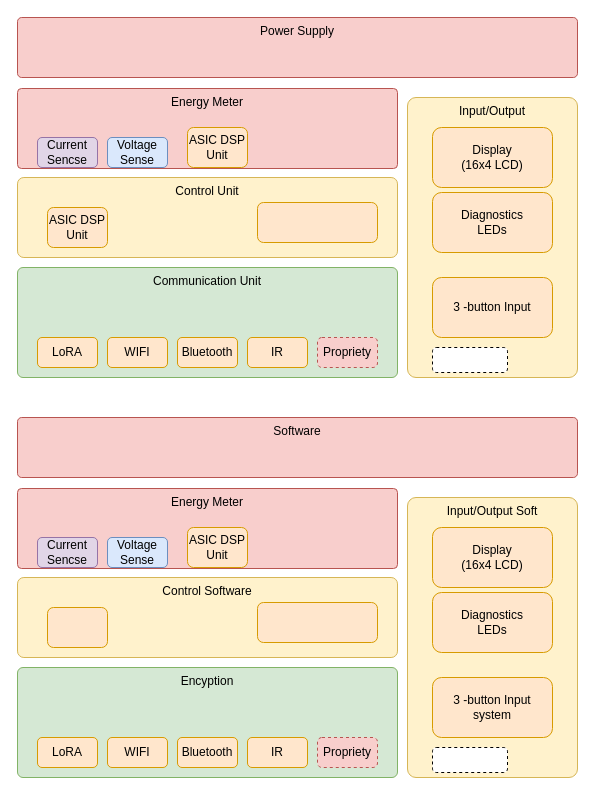
Image size: 595x795. Some labels were removed from this diagram. Each missing label, with the box of its shape:
ESP32: (256, 202, 378, 242)
ISP header: (432, 346, 508, 372)
logging: (46, 606, 108, 648)
metering: (256, 602, 378, 642)
Programmer: (432, 746, 508, 772)
